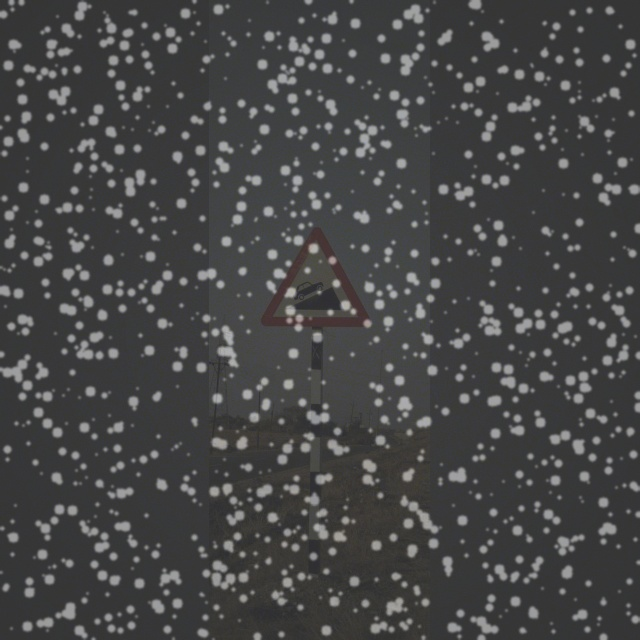Steep_Ascent: (265, 228, 374, 332)
